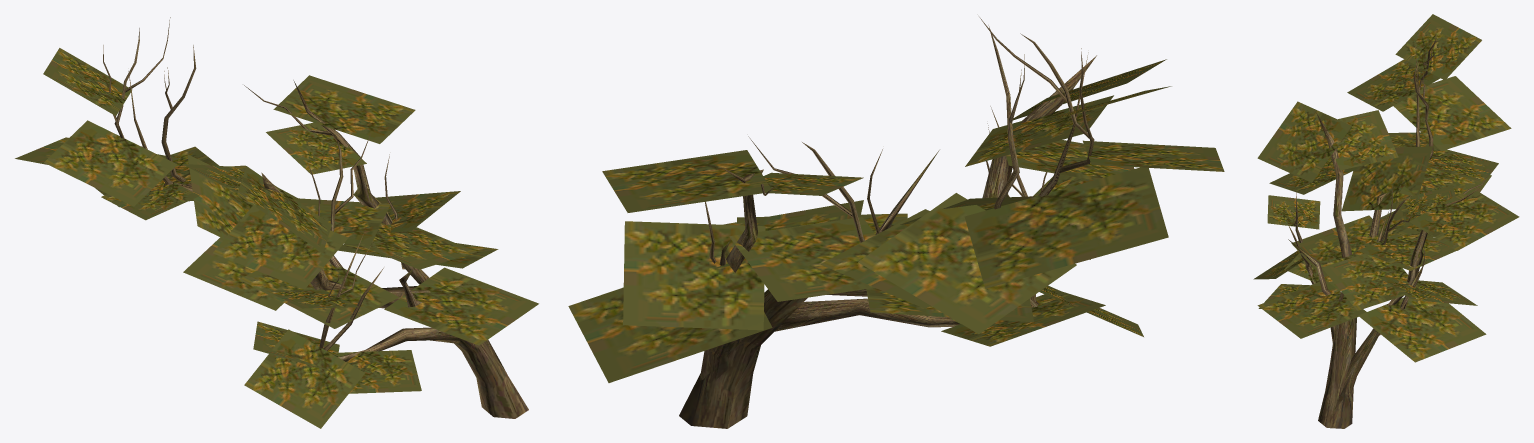
File: S_Tree_Yellow054.FBX
The picture shows the model from 3 angles, left to right: view 1: azimuth 30°, elevation 25°; view 2: azimuth 150°, elevation 25°; view 3: azimuth 270°, elevation 25°; orthographic projection. The views are drawn at different scales.
Parts seen in each view (by area): view 1: S_Tree_Yellow055; view 2: S_Tree_Yellow055; view 3: S_Tree_Yellow055.
Boxes of the visible parts, x1=… form: S_Tree_Yellow055: x1=15, y1=17, x2=538, y2=428; S_Tree_Yellow055: x1=568, y1=17, x2=1224, y2=428; S_Tree_Yellow055: x1=1253, y1=14, x2=1519, y2=428.
Bounding box in the file's own units: 628 × 442 × 526.
